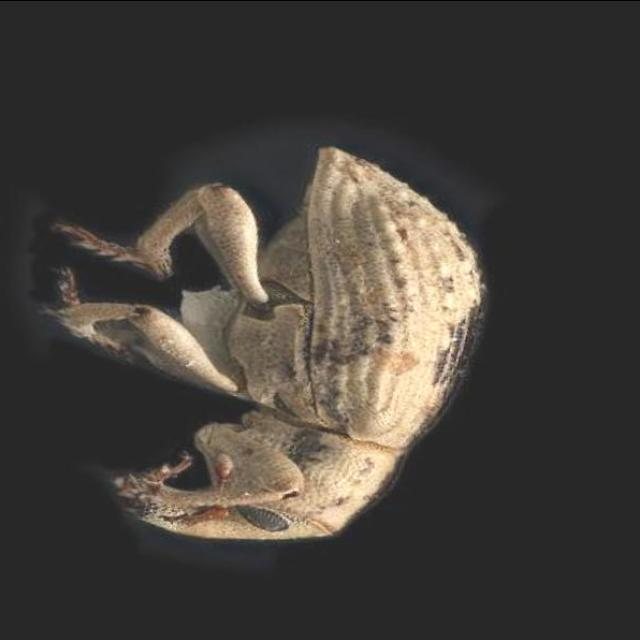ricebug: (47, 147, 485, 539)
